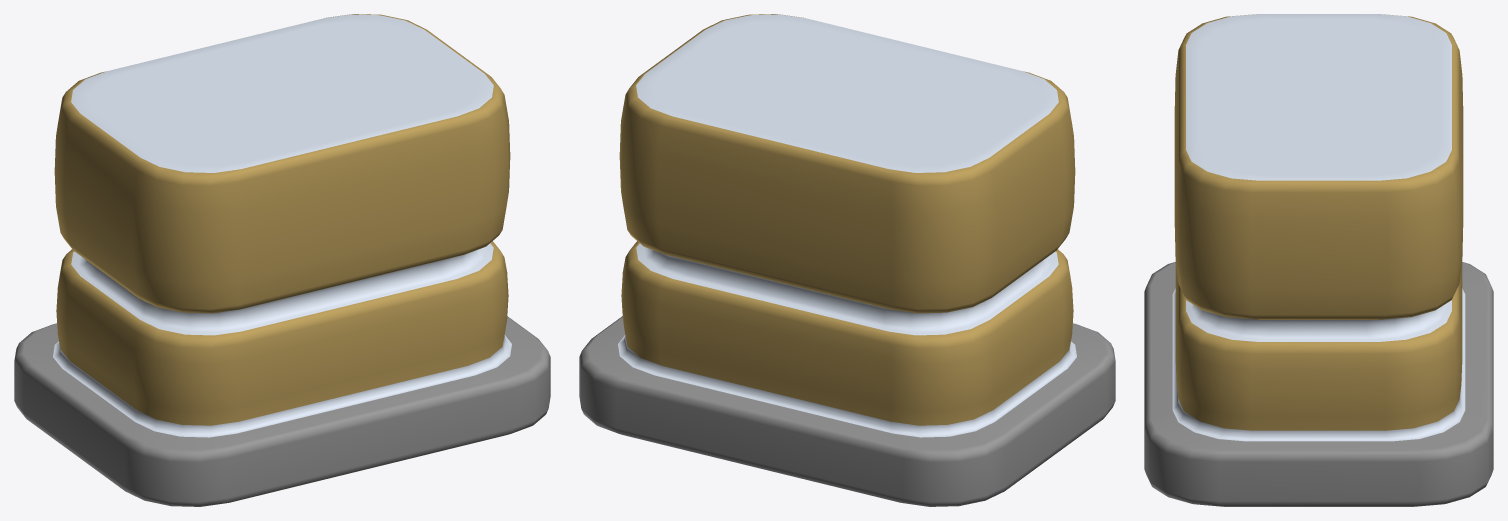
File: SM_Building_03_Version_04_Part_01.fbx
3 renders of one model, left to right at view 1: azimuth 30°, elevation 25°; view 2: azimuth 150°, elevation 25°; view 3: azimuth 270°, elevation 25°, orthographic.
Visible parts, largest first — view 1: SM_Building_03_Version_04_Part_01; view 2: SM_Building_03_Version_04_Part_01; view 3: SM_Building_03_Version_04_Part_01.
Part boxes in pixels (box(x1,y1,x2,y2)): SM_Building_03_Version_04_Part_01: box(14, 14, 550, 506); SM_Building_03_Version_04_Part_01: box(579, 14, 1115, 506); SM_Building_03_Version_04_Part_01: box(1144, 14, 1493, 506).
Size of the model in its own units: 5055 by 3636 by 3693.
